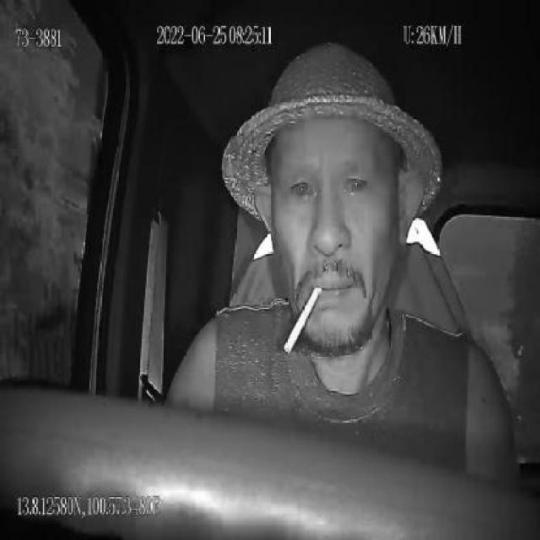smoking: (283, 285, 322, 356)
